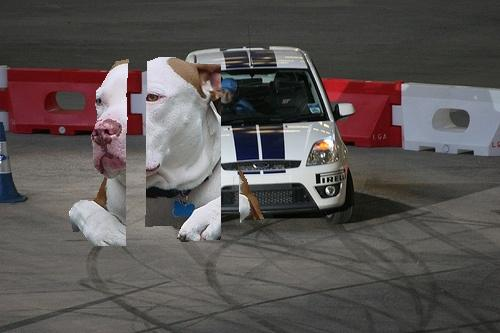tampered: (70, 58, 264, 246)
